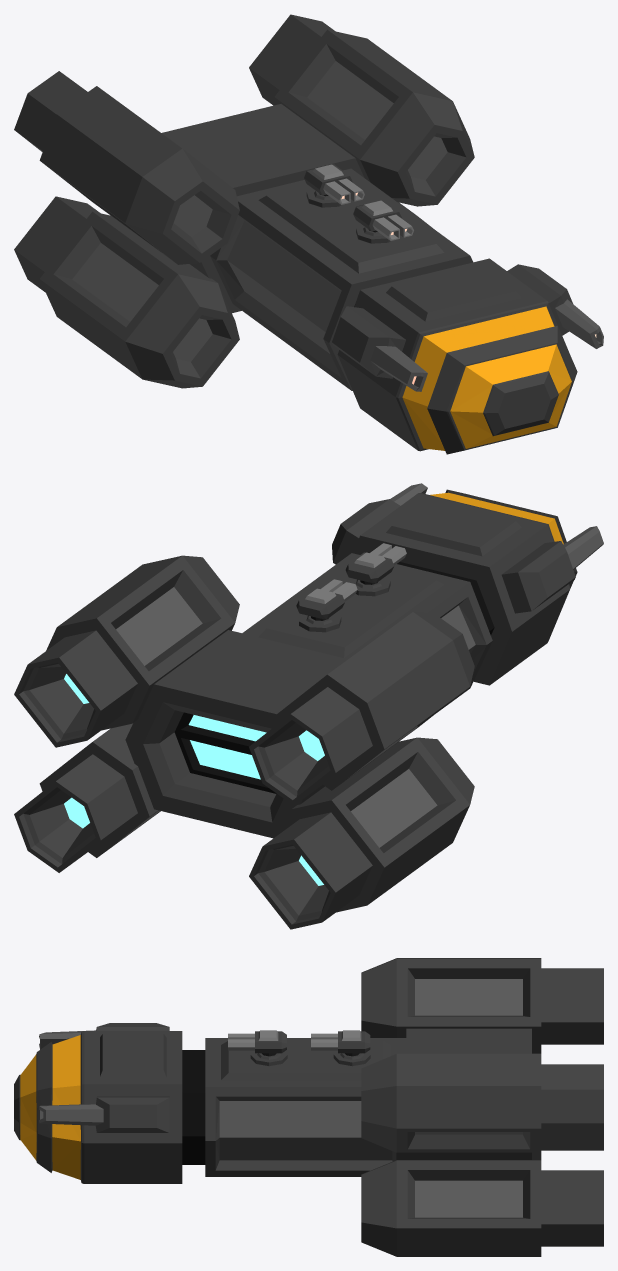
The model's file is LPSP_CruiserA_fixed.gltf.
The picture shows the model from 3 angles, top to bottom: view 1: azimuth 30°, elevation 25°; view 2: azimuth 150°, elevation 25°; view 3: azimuth 270°, elevation 25°; orthographic projection. The views are drawn at different scales.
Visible parts, largest first — view 1: SmallFrigate; view 2: SmallFrigate; view 3: SmallFrigate.
Boxes of the visible parts, x1,y1,x2,y2 form: SmallFrigate: (14, 14, 603, 454); SmallFrigate: (14, 483, 603, 929); SmallFrigate: (14, 958, 603, 1256).
Size of the model in its own units: 5.36 by 3.56 by 9.41.
2 materials, 1 textured.
